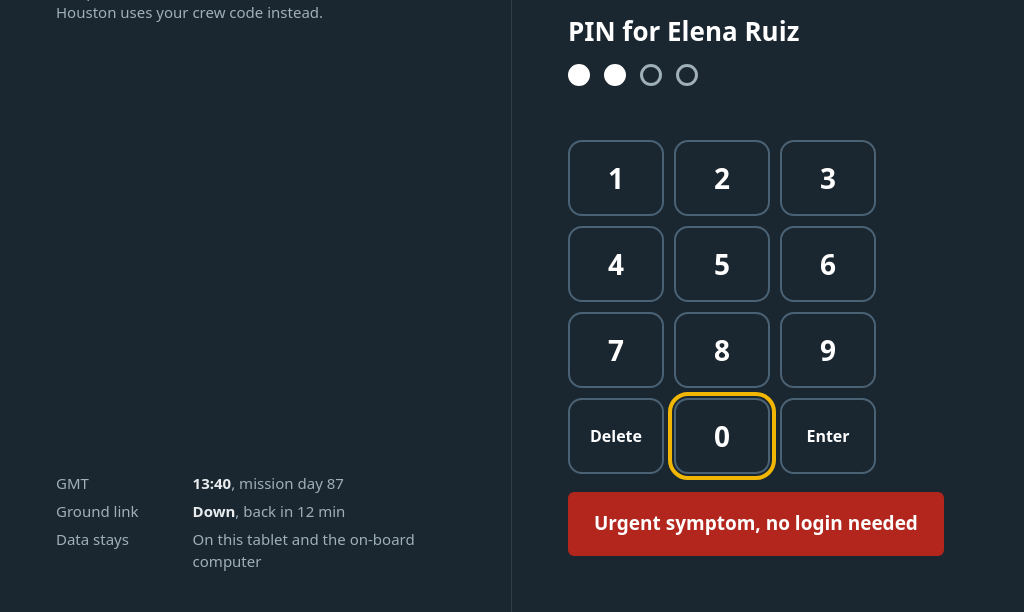
it: LoginView › says how many tries are left after a wrong PIN and clears the entry
Earlier steps of the test are not shown.
(page scrolled)
Step 1. Click the button "0" → (722, 436), box x1=674 y1=398 x2=770 y2=474
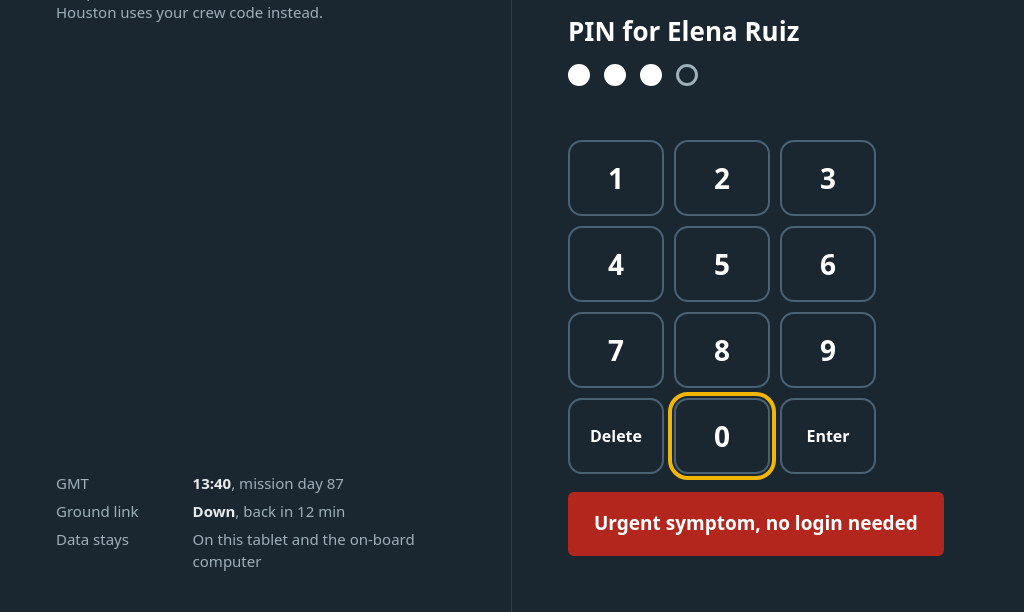
Step 2. Click the button "0" → (722, 436), box x1=674 y1=398 x2=770 y2=474
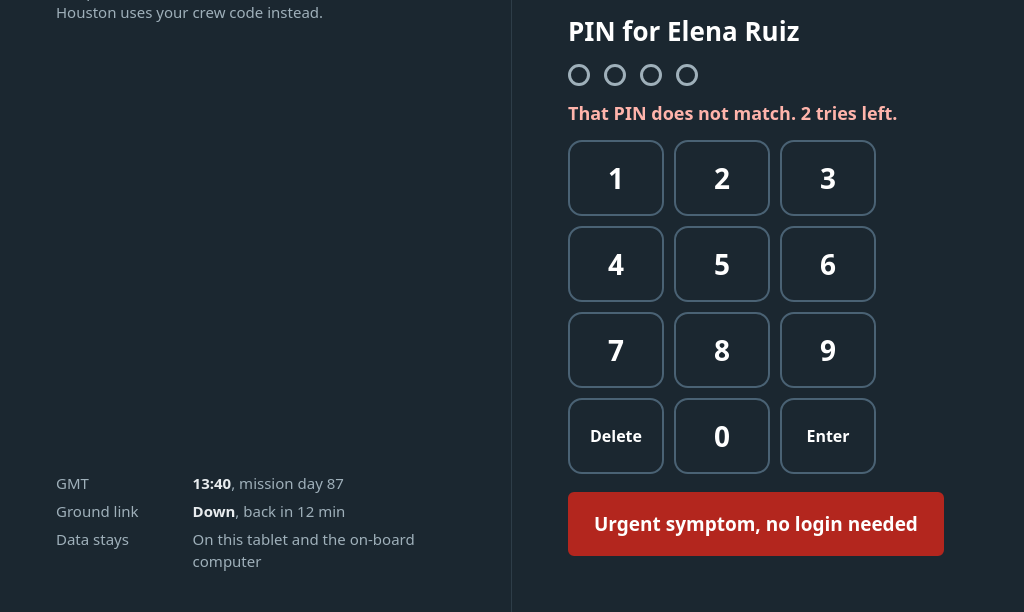
Check: the text "That PIN does not match. 2 tries left." is shown, box x1=568 y1=101 x2=898 y2=125
Step 3. Click the button "0" → (722, 436), box x1=674 y1=398 x2=770 y2=474
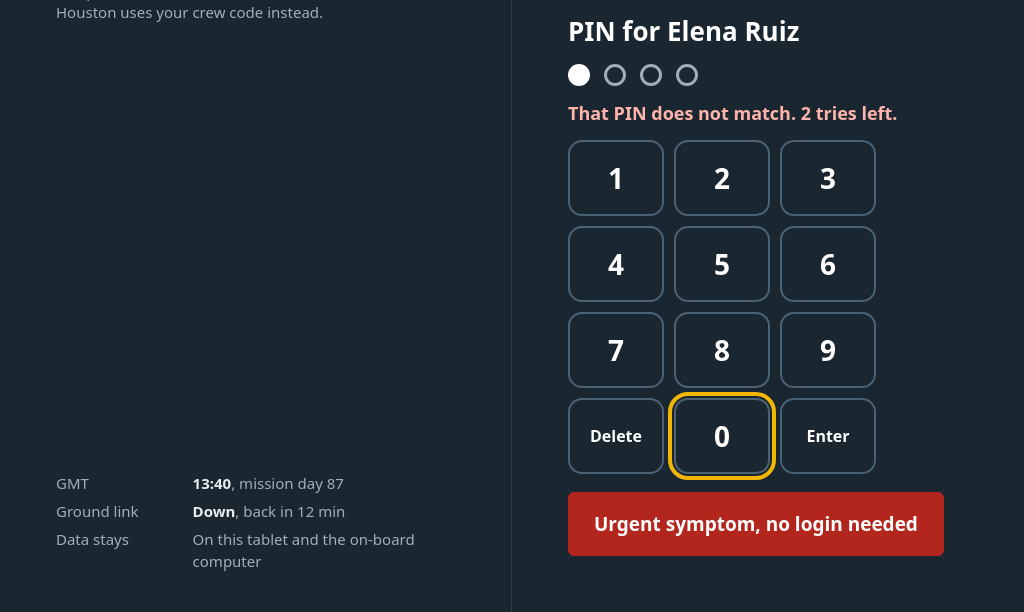
Step 4. Click the button "0" → (722, 436), box x1=674 y1=398 x2=770 y2=474
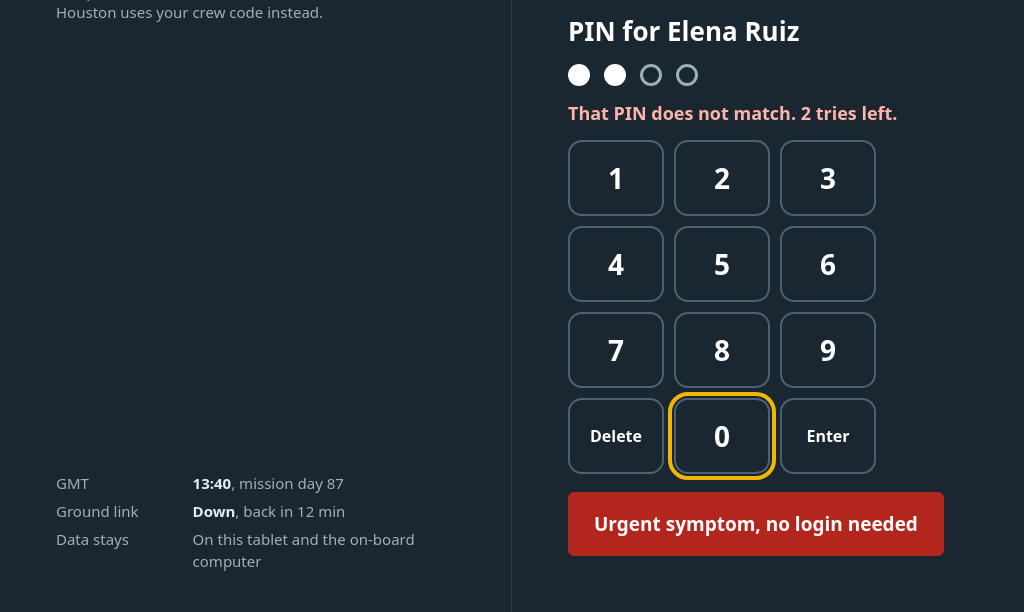
Step 5. Click the button "0" → (722, 436), box x1=674 y1=398 x2=770 y2=474
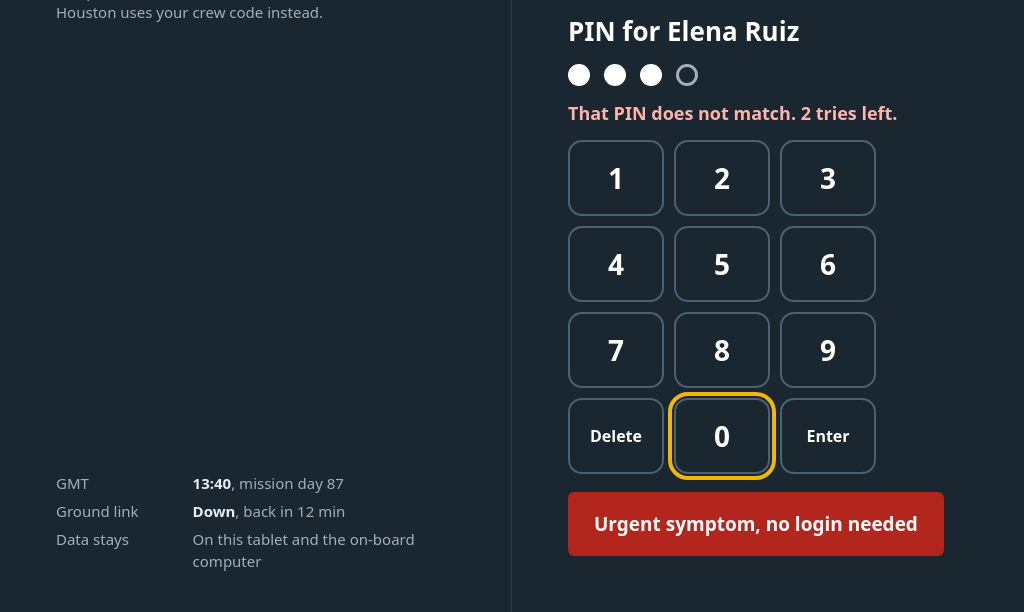
Step 6. Click the button "0" → (722, 436), box x1=674 y1=398 x2=770 y2=474
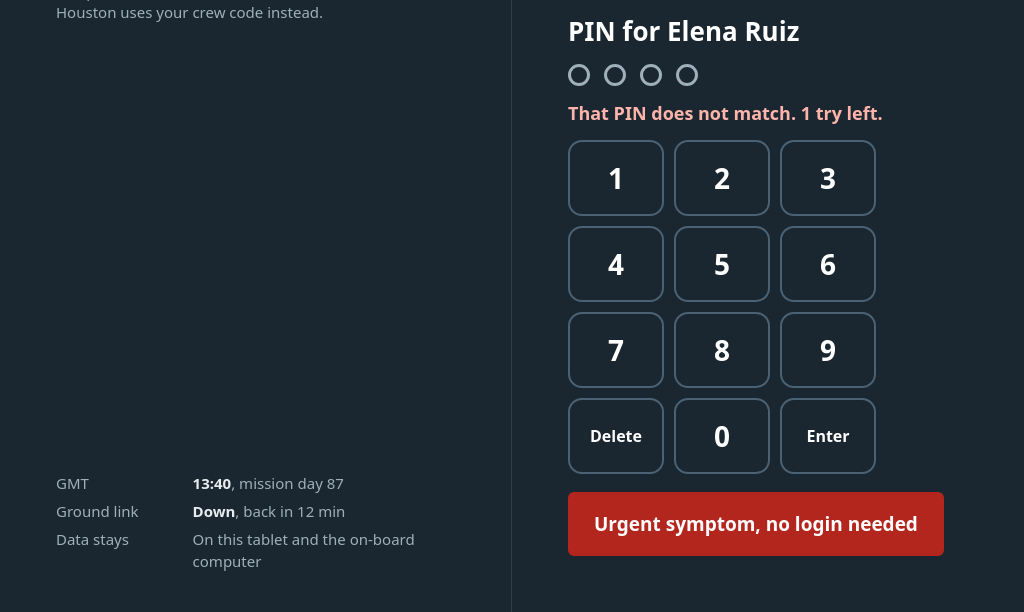
Check: the text "That PIN does not match. 1 try left." is shown, box x1=568 y1=101 x2=883 y2=125
